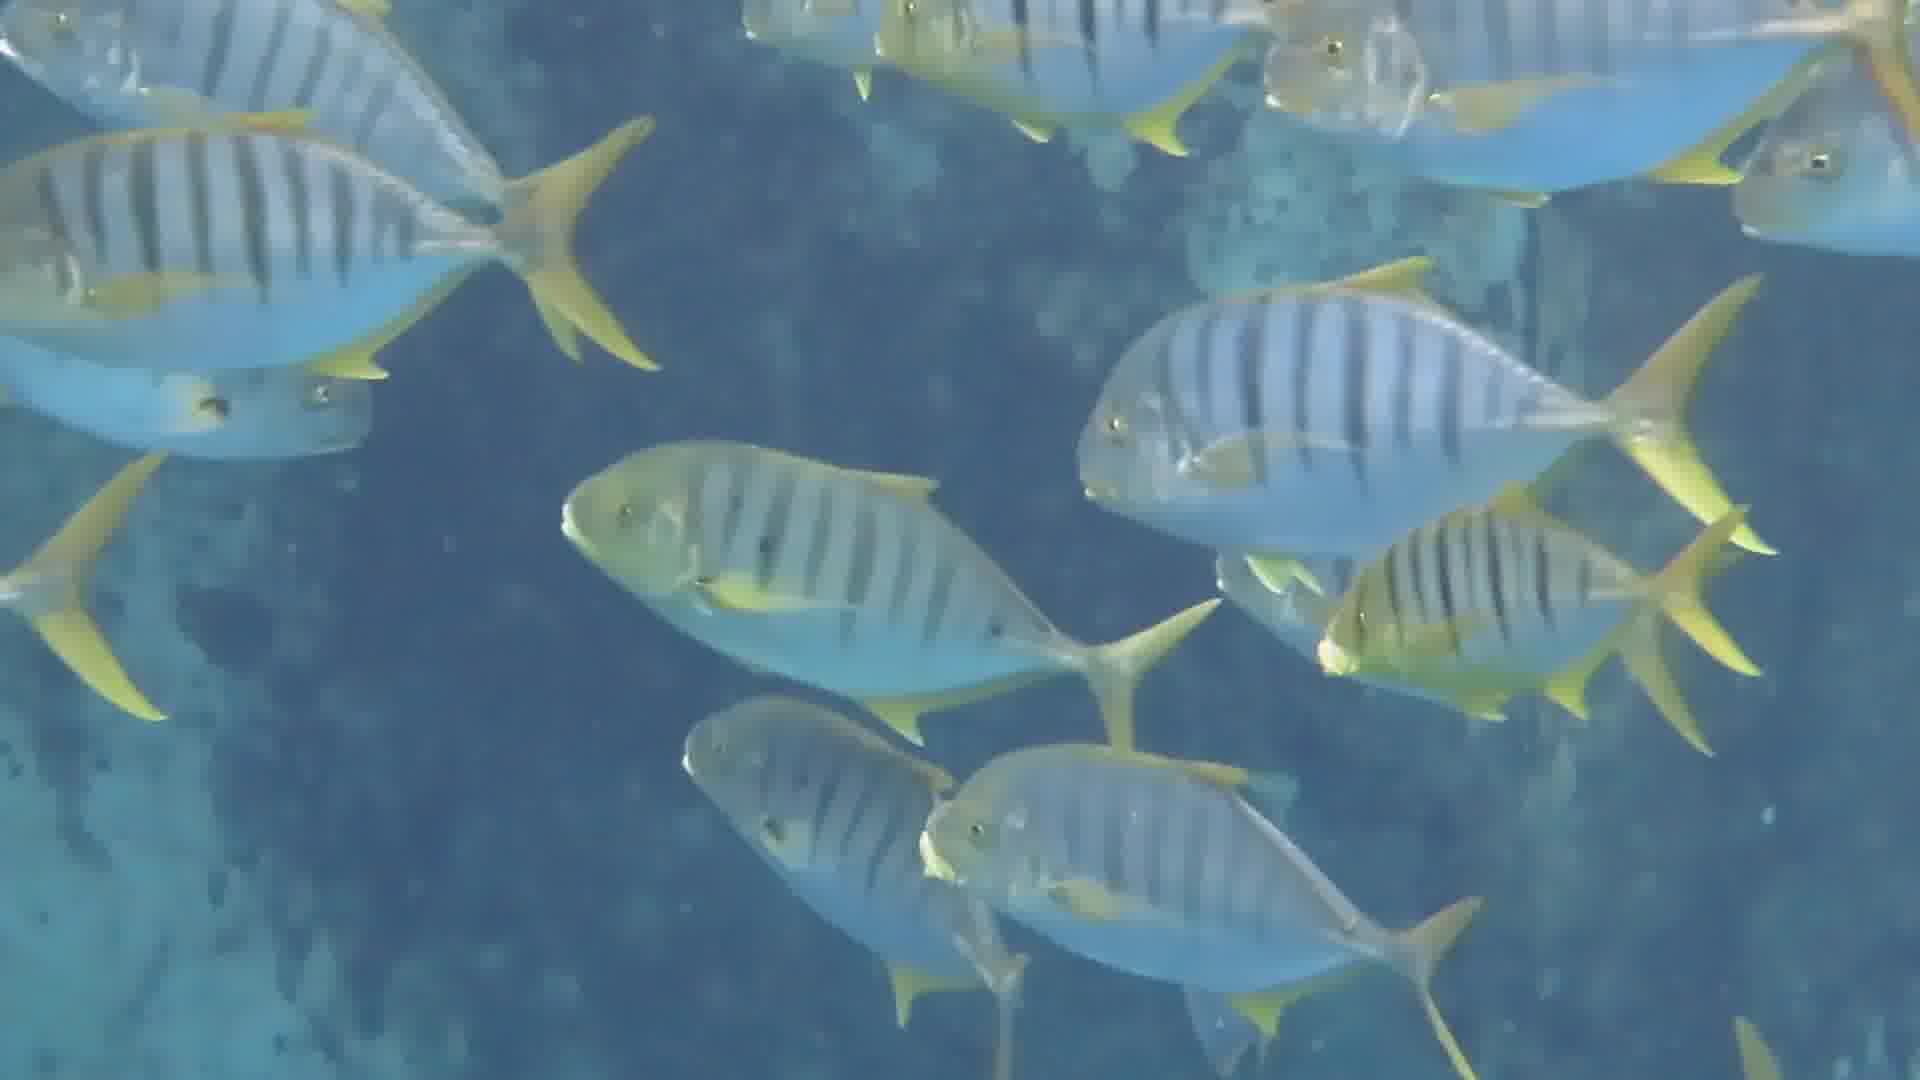Gnathanodon speciosus: (545, 410, 1240, 729), (1033, 251, 1739, 539), (919, 752, 1493, 1043), (1271, 7, 1909, 177), (1338, 513, 1745, 735)
